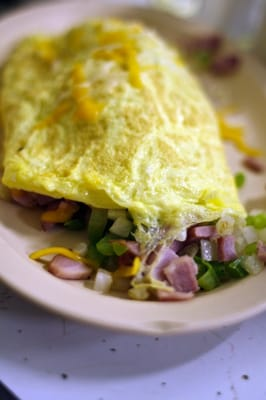sushi: (0, 17, 263, 337)
